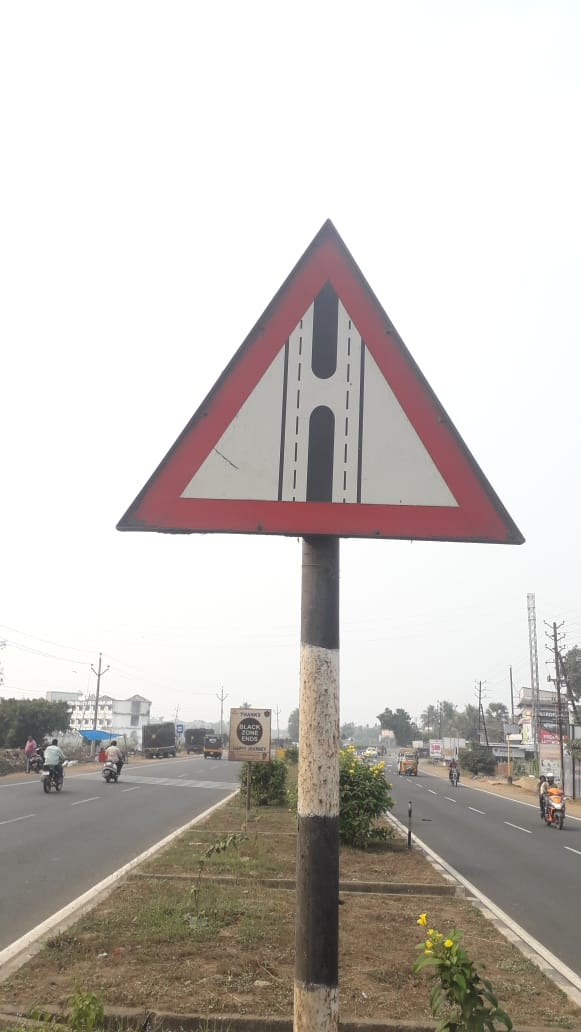highway go straight: (106, 209, 535, 576)
